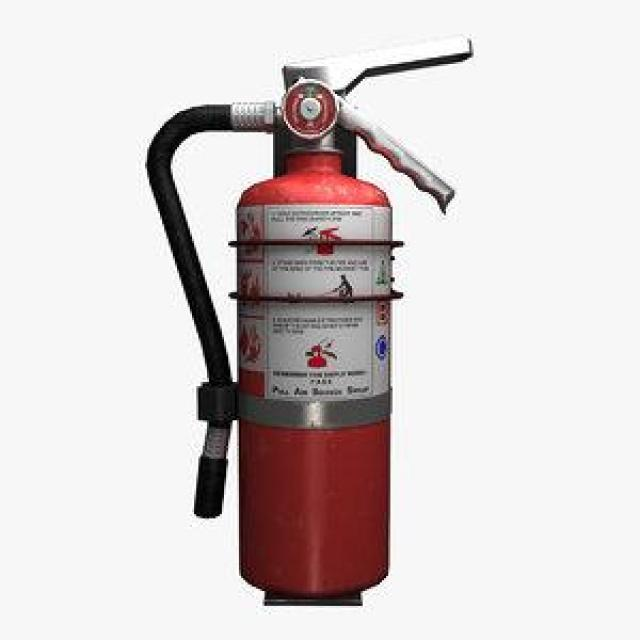fire_extinguisher: (133, 27, 479, 611)
